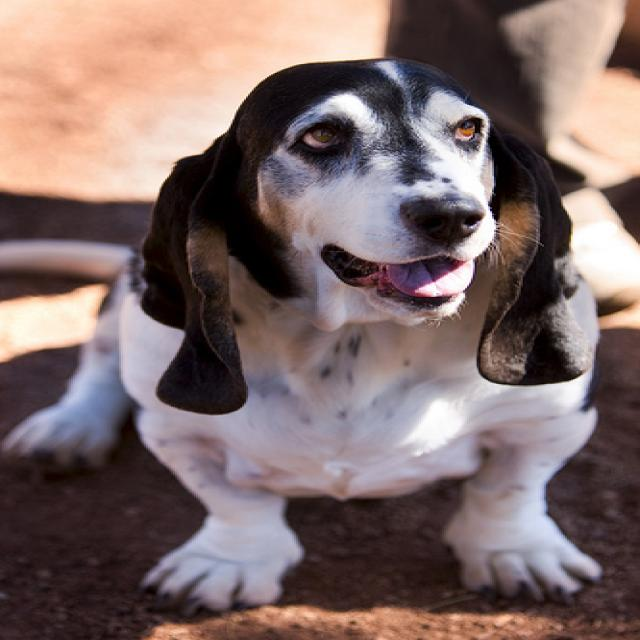dog-basset_hound: (2, 54, 615, 621)
